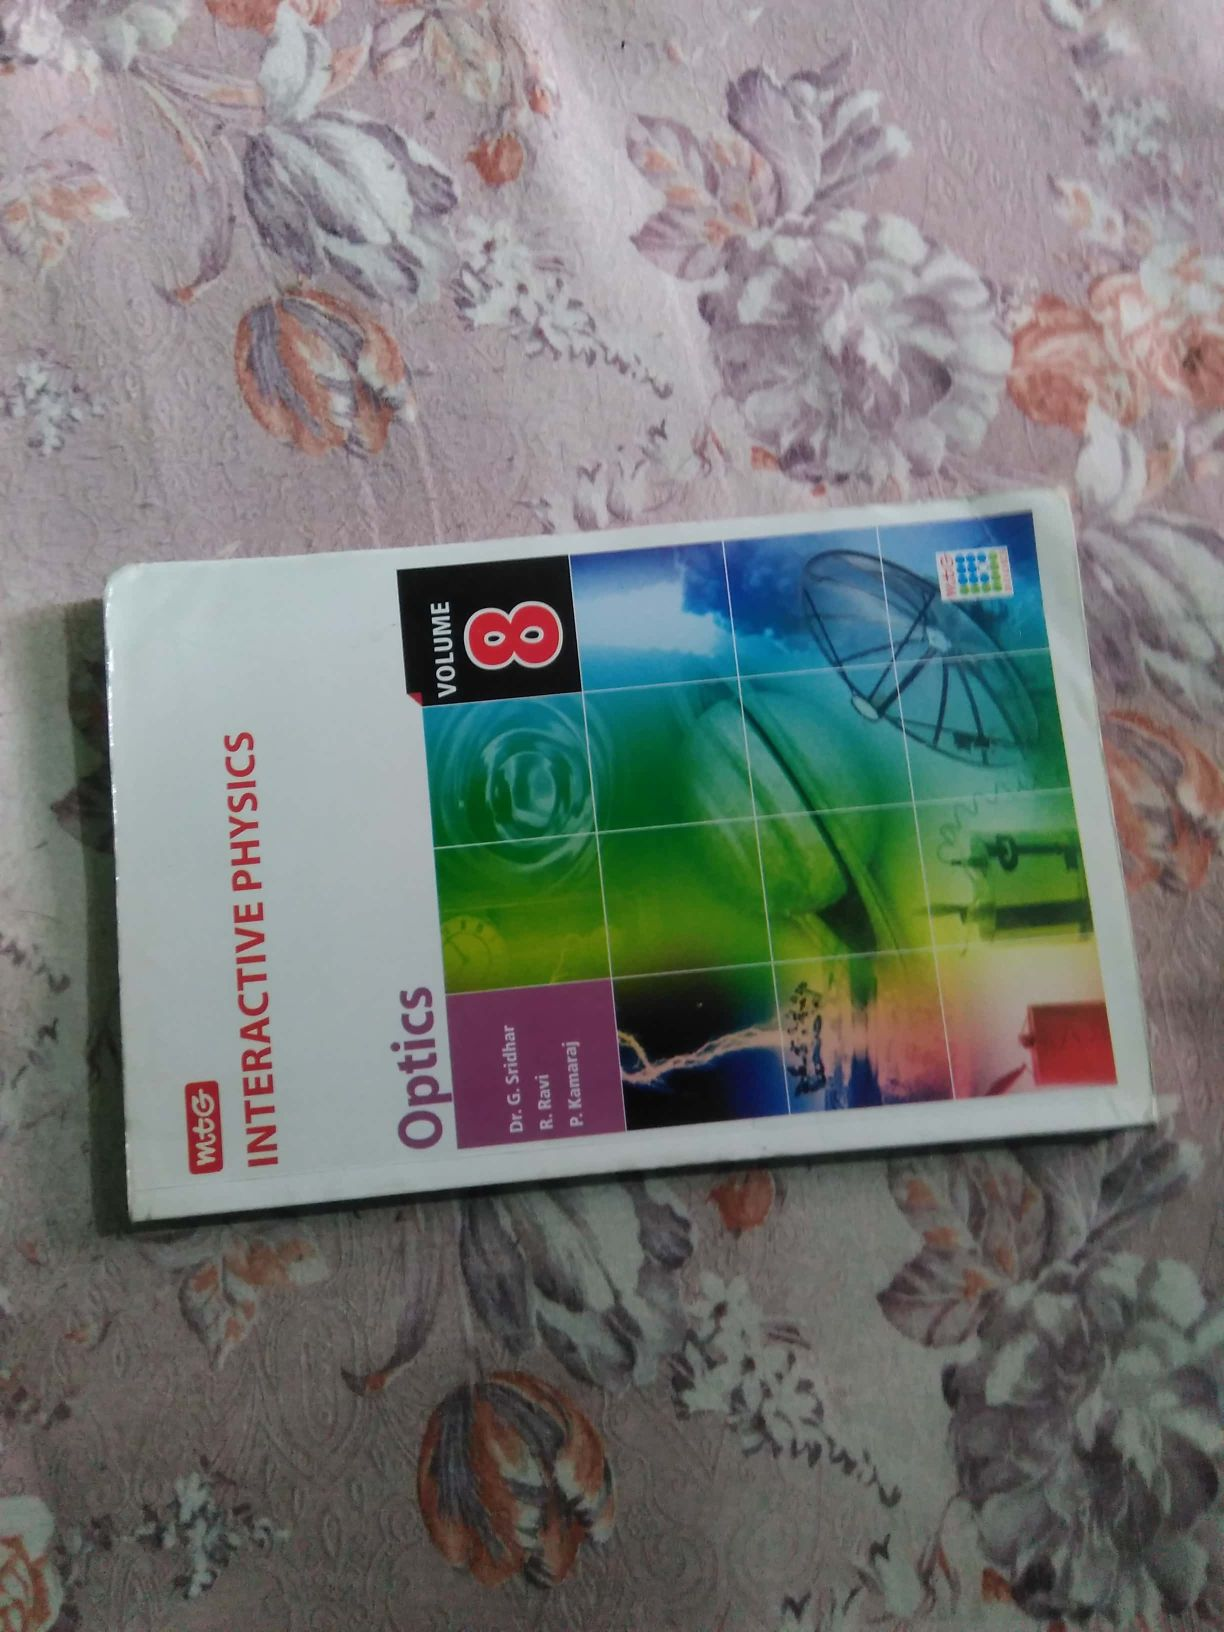optics: (73, 487, 1124, 1266)
